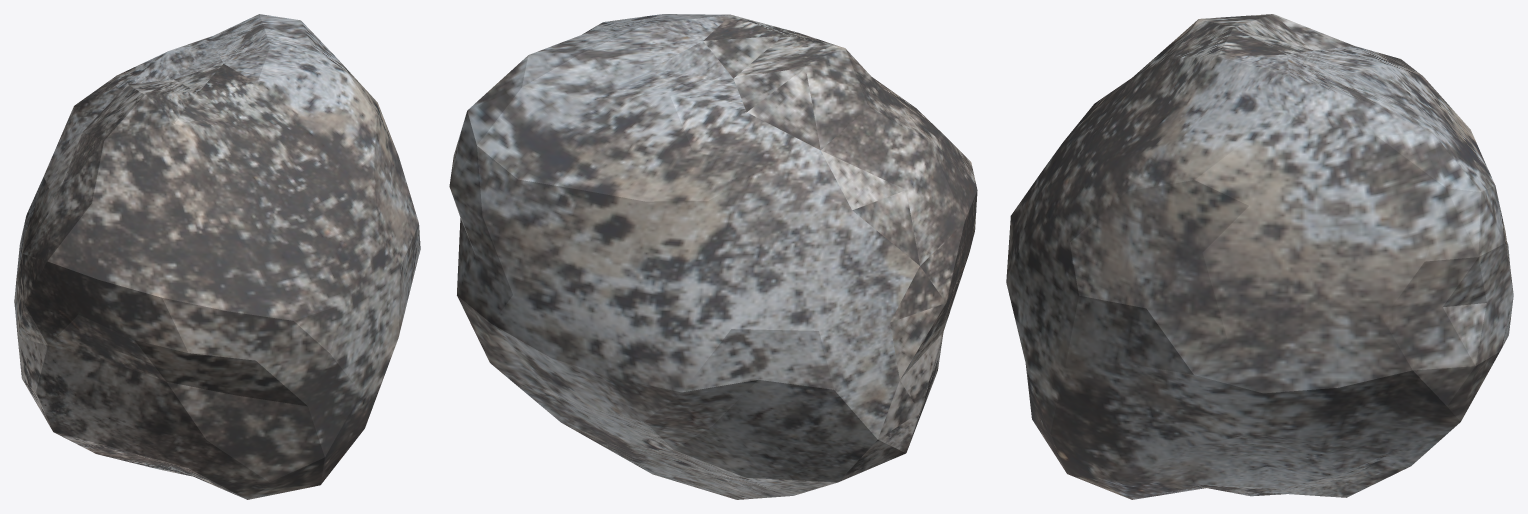
Rendered from Asteroid_Medium_001.fbx.
3 renders of one model, left to right at view 1: azimuth 30°, elevation 25°; view 2: azimuth 150°, elevation 25°; view 3: azimuth 270°, elevation 25°, orthographic. The views are drawn at different scales.
Parts seen in each view (by area): view 1: Asteroid_Medium_001; view 2: Asteroid_Medium_001; view 3: Asteroid_Medium_001.
Boxes of the visible parts, x1=… form: Asteroid_Medium_001: x1=14, y1=14, x2=420, y2=499; Asteroid_Medium_001: x1=449, y1=14, x2=977, y2=499; Asteroid_Medium_001: x1=1006, y1=14, x2=1513, y2=499.
Bounding box in the file's own units: 24.25 × 24.25 × 24.34.
Materials: 1 (1 with a texture image).
